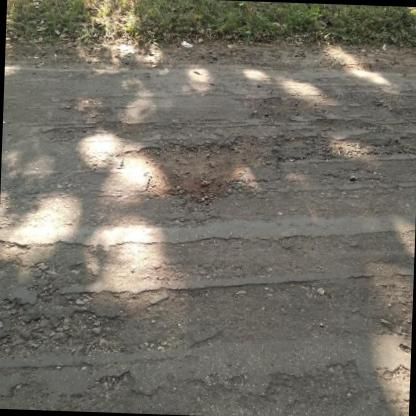pothole: (112, 131, 294, 205)
